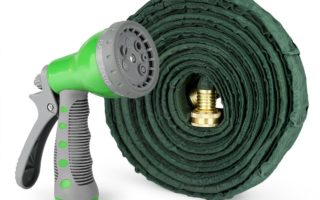Nonrec_Tangler: (48, 3, 298, 191)
